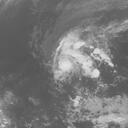cyclone: (50, 29, 105, 82)
